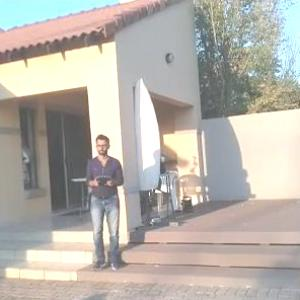follow: (82, 130, 131, 274)
